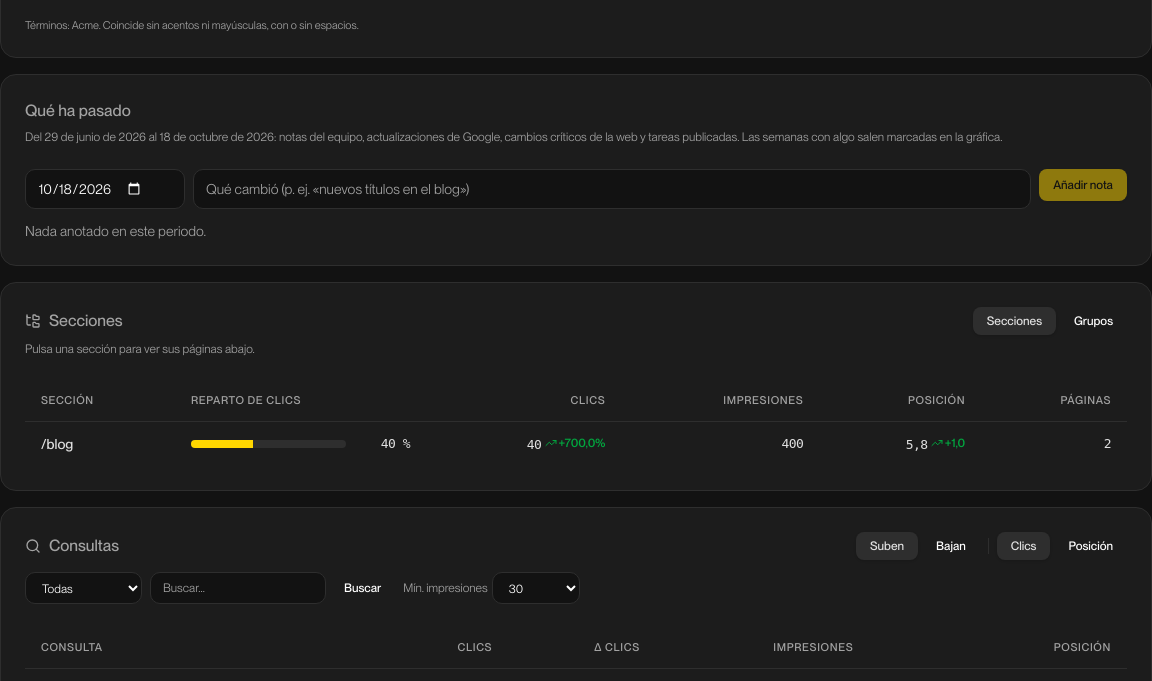
Test: SeoControlTab history and URL groups › switches to URL groups and filters pages by the clicked group
(page scrolled)
Click the button "Grupos": (1094, 321) [1060,307,1127,335]
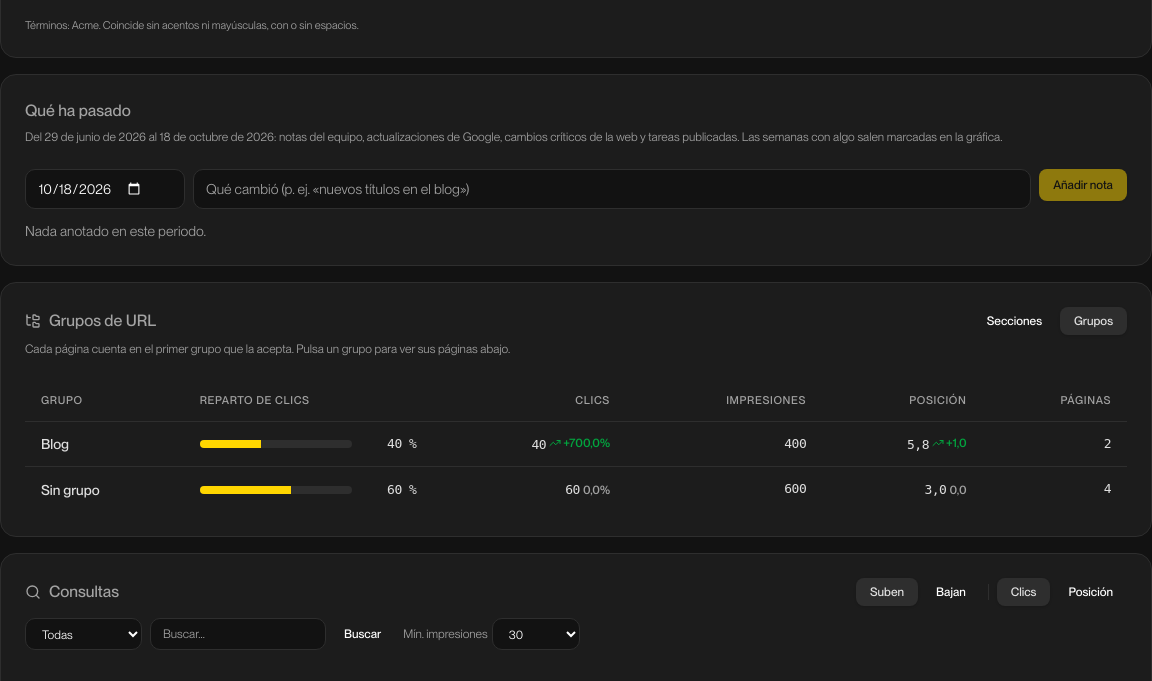
Now the heading "Grupos de URL" is shown, box [25,309,156,333]
Click the button "Blog": (55, 444) [41,434,69,454]
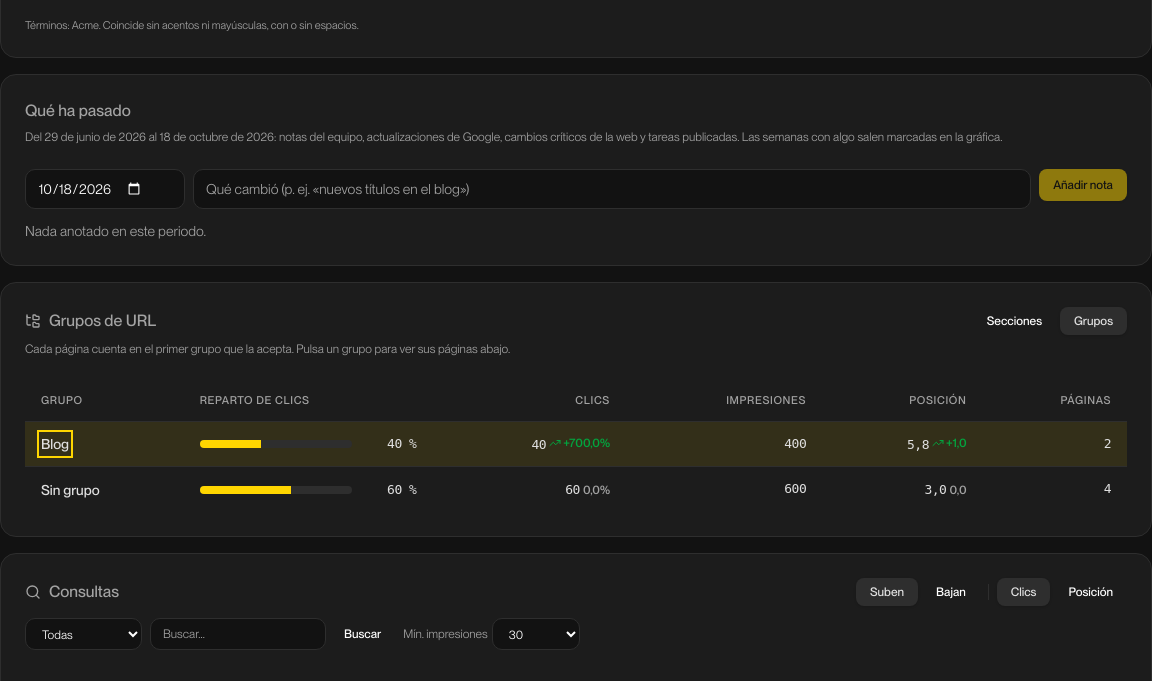
Click the button "Secciones": (1014, 321) [973,307,1056,335]
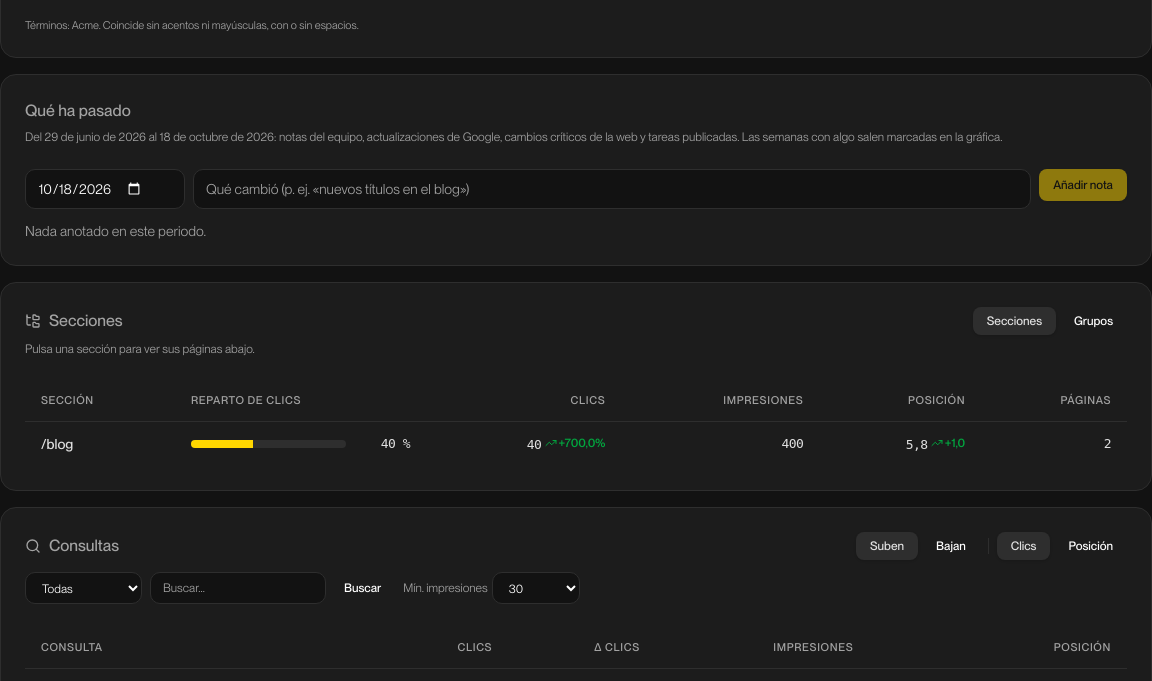
Now the button "/blog" is shown, box [41,434,73,454]
